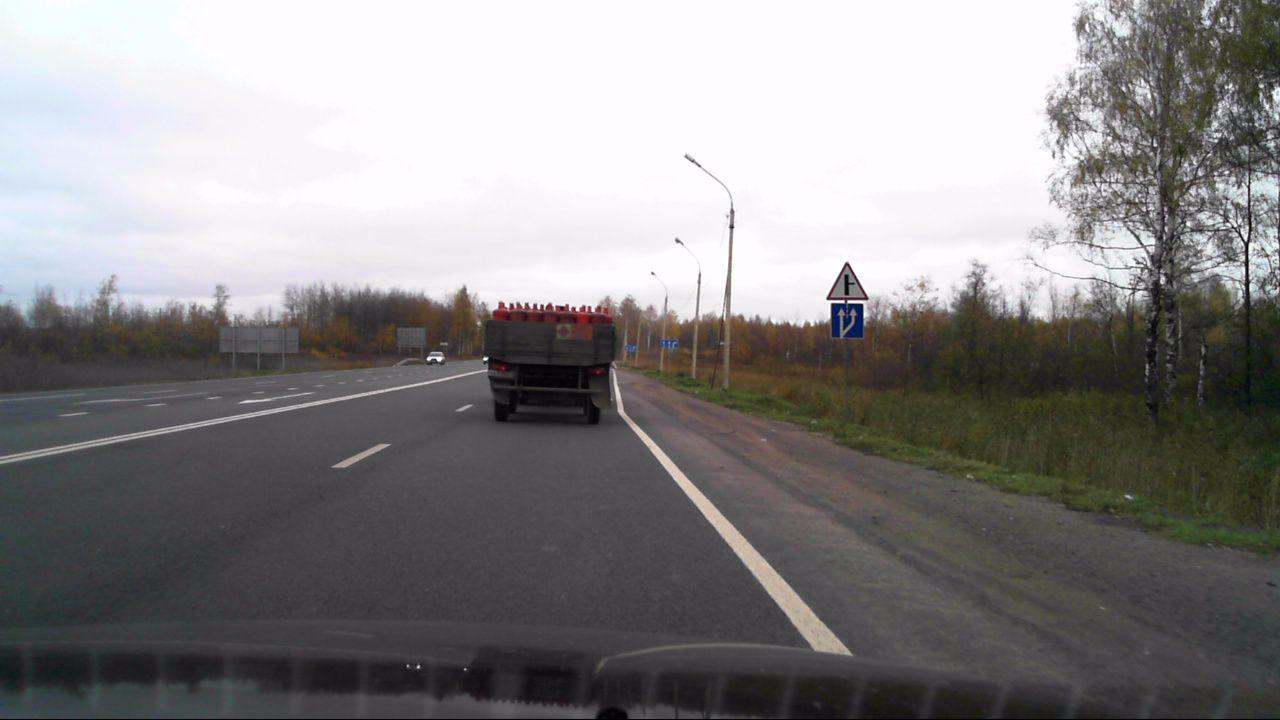2_3_2: (825, 261, 867, 300)
5_15_1: (661, 339, 679, 350), (623, 344, 638, 352)
5_15_3: (828, 303, 865, 339)
